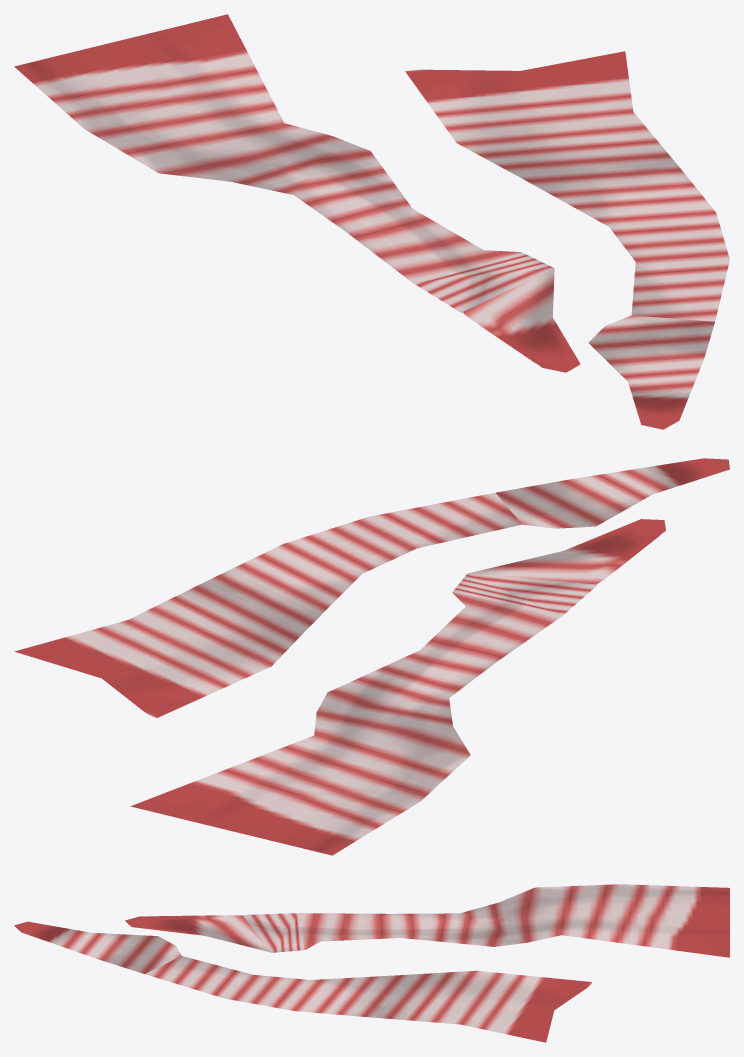
The model's file is CB_Stockings_Ground.fbx.
The picture shows the model from 3 angles, top to bottom: view 1: azimuth 30°, elevation 25°; view 2: azimuth 150°, elevation 25°; view 3: azimuth 270°, elevation 25°; orthographic projection. The views are drawn at different scales.
Parts seen in each view (by area): view 1: Stockings_Ground; view 2: Stockings_Ground; view 3: Stockings_Ground.
Boxes of the visible parts, x1,y1,x2,y2 form: Stockings_Ground: [14, 14, 729, 429]; Stockings_Ground: [14, 458, 729, 855]; Stockings_Ground: [14, 884, 729, 1042].
Bounding box in the file's own units: 0.2584 × 4.71e-08 × 0.4928.
